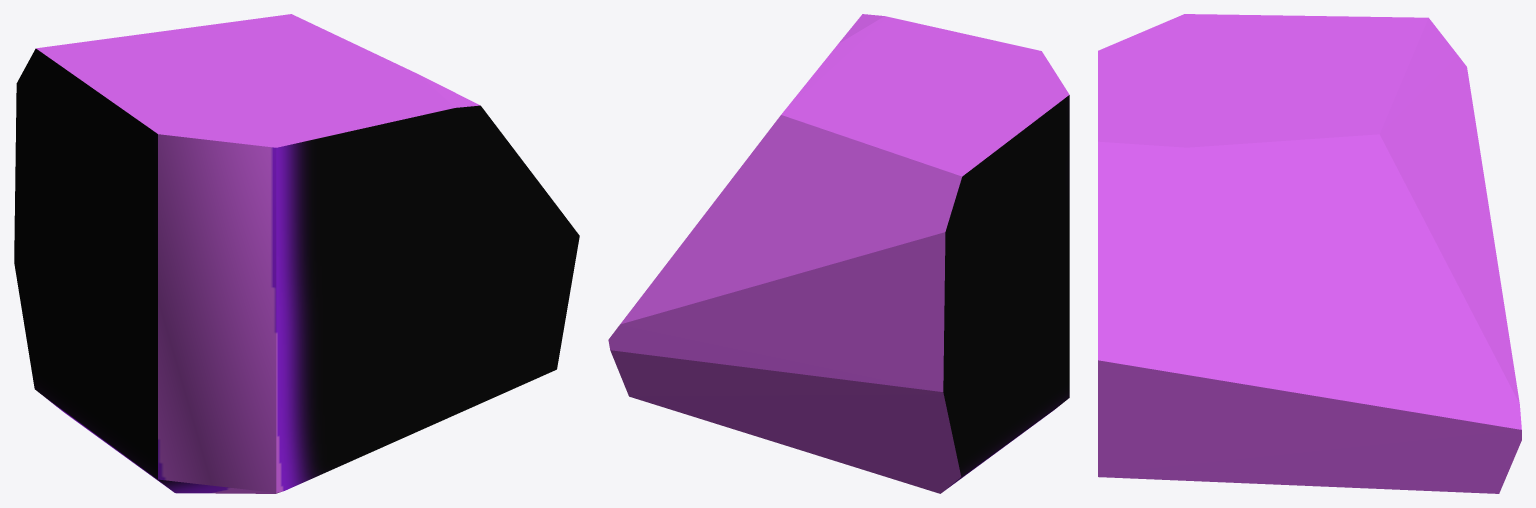
Rendered from blockParticle_1.gltf.
3 views of the same model, side by side, from view 1: azimuth 30°, elevation 25°; view 2: azimuth 150°, elevation 25°; view 3: azimuth 270°, elevation 25° (orthographic). The views are drawn at different scales.
Parts seen in each view (by area): view 1: 立方体_cell.001; view 2: 立方体_cell.001; view 3: 立方体_cell.001.
Boxes of the visible parts, <box> form: 立方体_cell.001: <box>14,14,579,493</box>; 立方体_cell.001: <box>608,14,1069,493</box>; 立方体_cell.001: <box>1098,14,1521,493</box>.
Bounding box in the file's own units: 1.07 × 1.01 × 1.04.
Materials: 2 (2 with a texture image).
